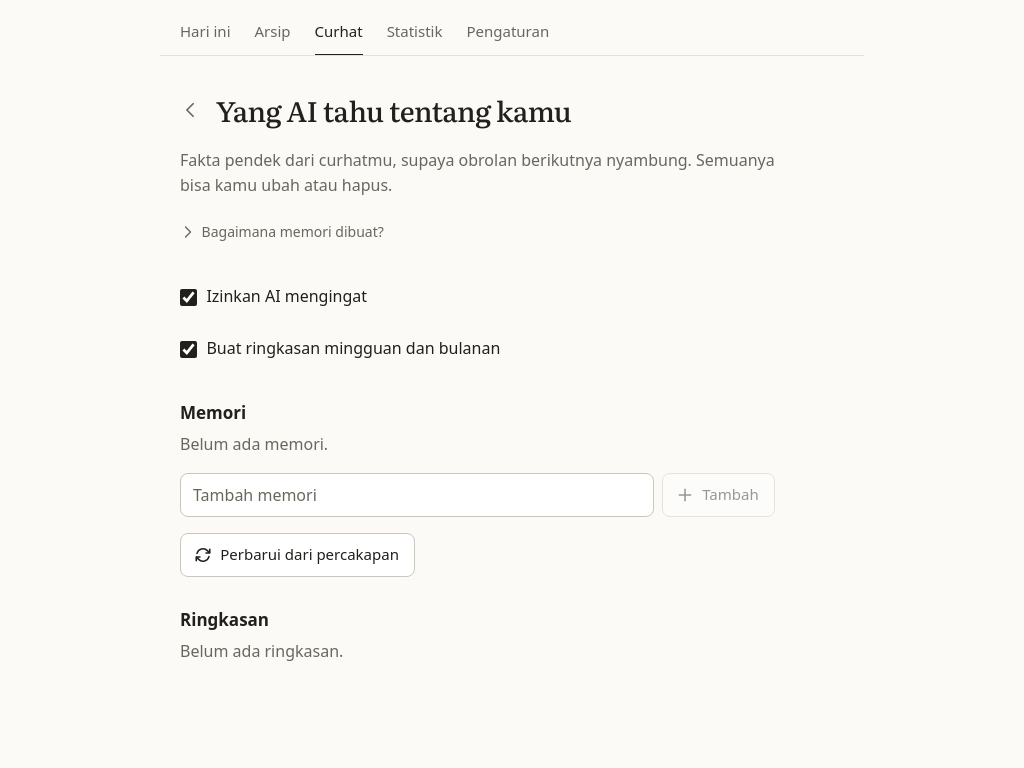
Test: refresh runs extraction and shows counts
The width and height of the screenshot is (1024, 768).
Click the button "Perbarui dari percakapan". click: (298,555)
box: [180,533,415,577]
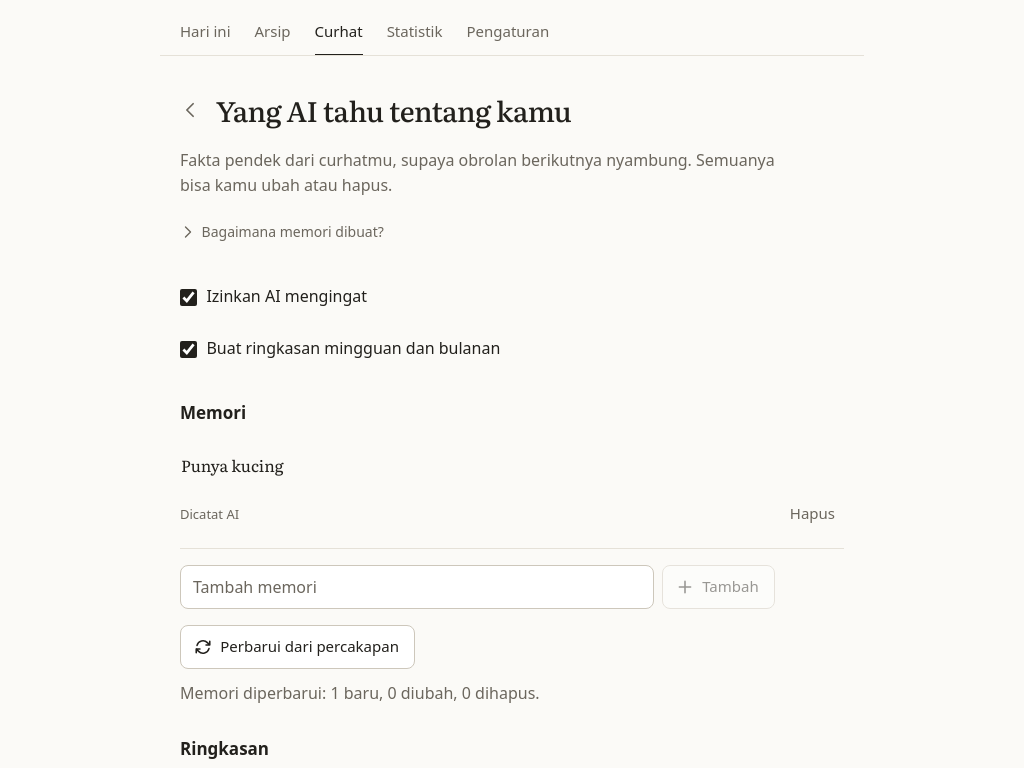
Now the text "Memori diperbarui: 1 baru, 0 diubah, 0 dihapus." is shown, box [180,682,540,704]
Now the text box showing "Punya kucing" is shown, box [180,444,844,488]
